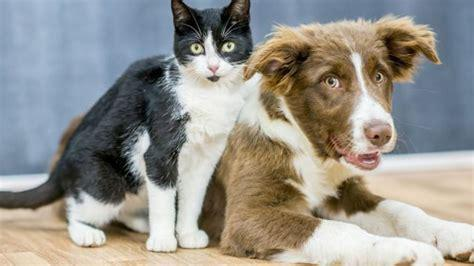cat: (1, 1, 250, 252)
dog: (215, 18, 473, 266)
